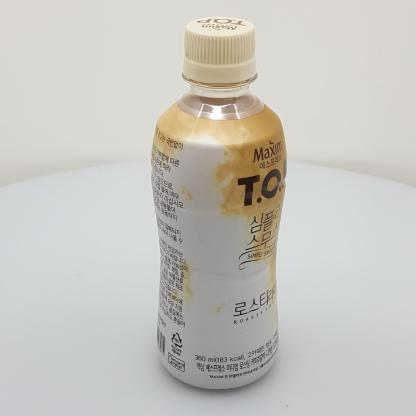--------TOP-----------: (151, 16, 287, 389)
